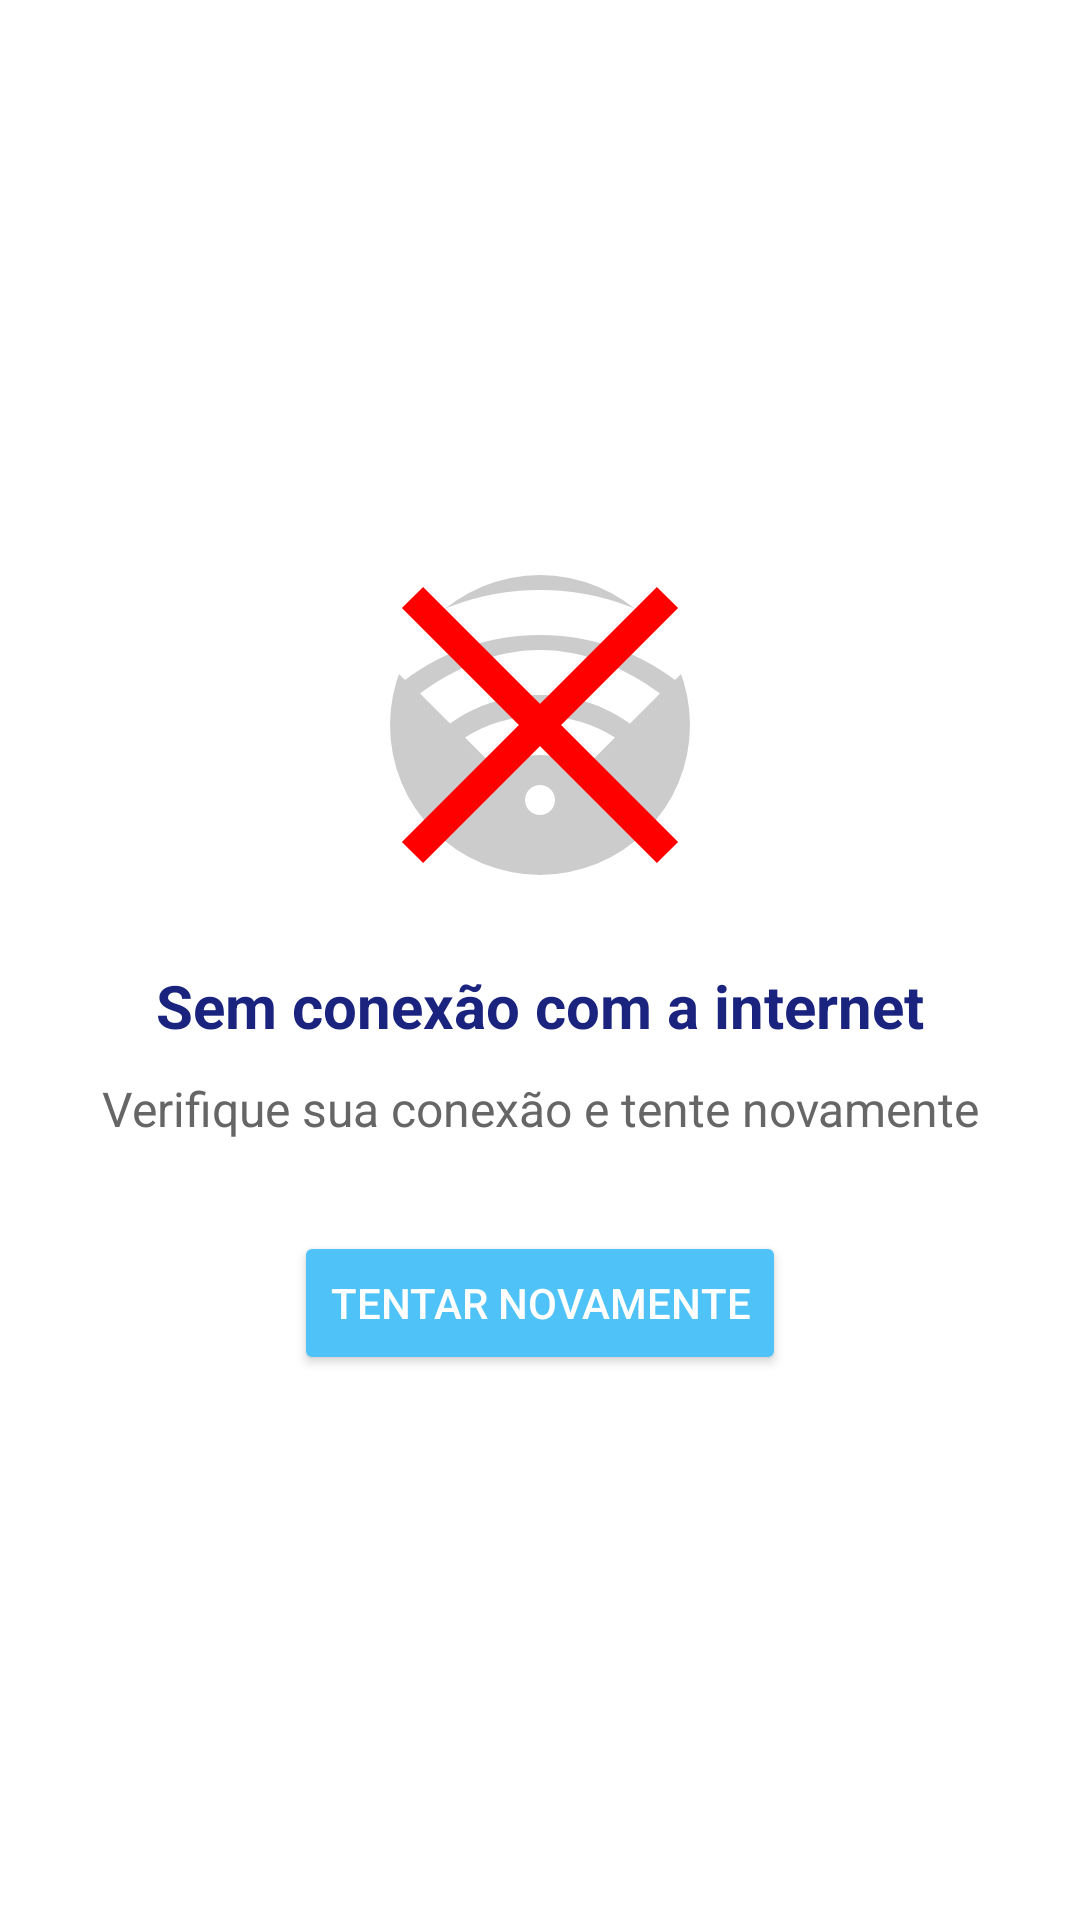

Icon bounding boxes for this 1080w x 1920h phone screenshot, format [x1, y1, x2, y2]:
no connection: [390, 575, 690, 875]
